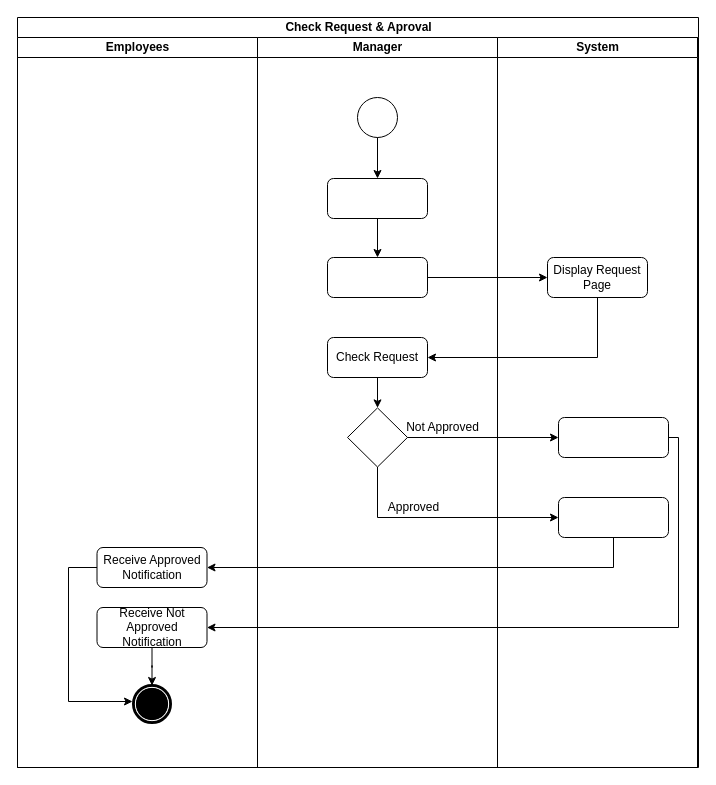
The diagram is 716 pixels wide and 785 high, and some of its shapes have lost their labels. Here are the shapes that lost their labels. From the top down, the centre of each, then its label:
(377,198): Login
(377,277): Click "Request" Menu
(613,437): Send Not Approved Notification
(613,517): Send Approved Notification
